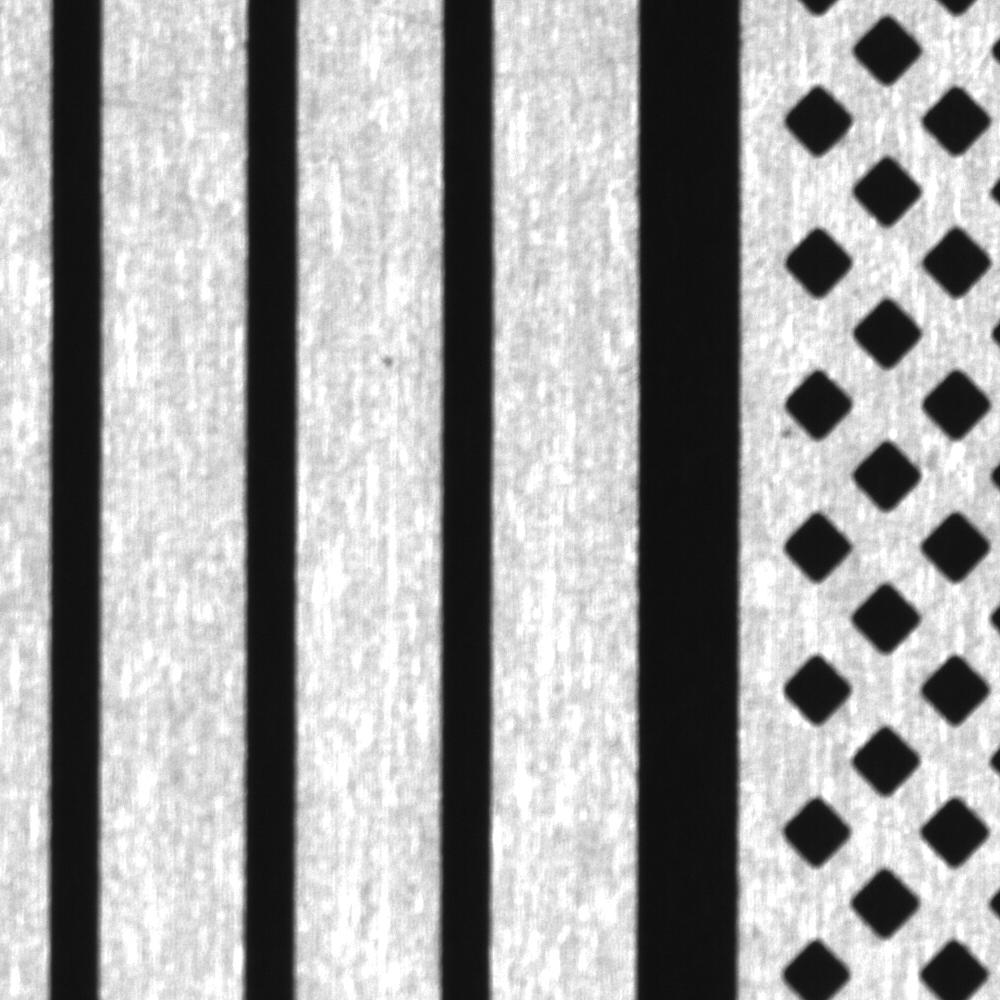Pinhole: (372, 338, 408, 382)
